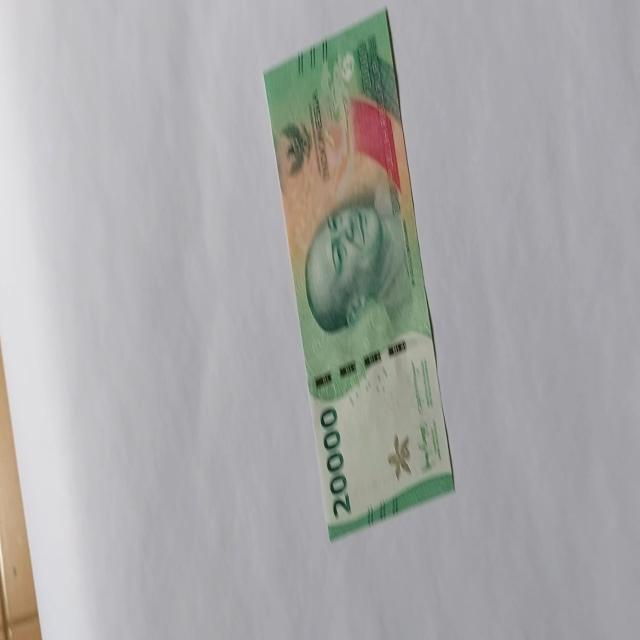dua puluh ribu rupiah: (261, 8, 456, 540), (302, 187, 413, 337)
